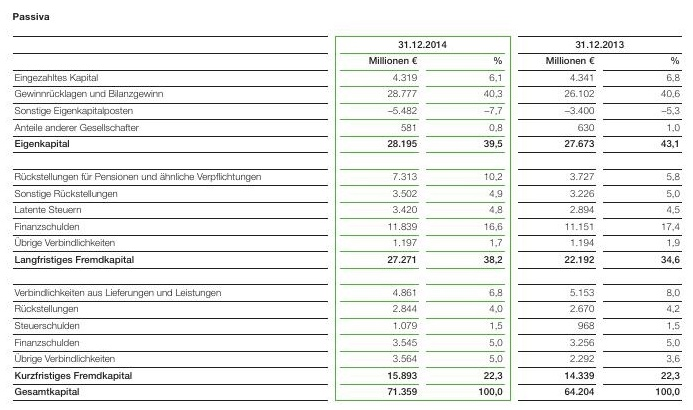table: (0, 0, 693, 410)
